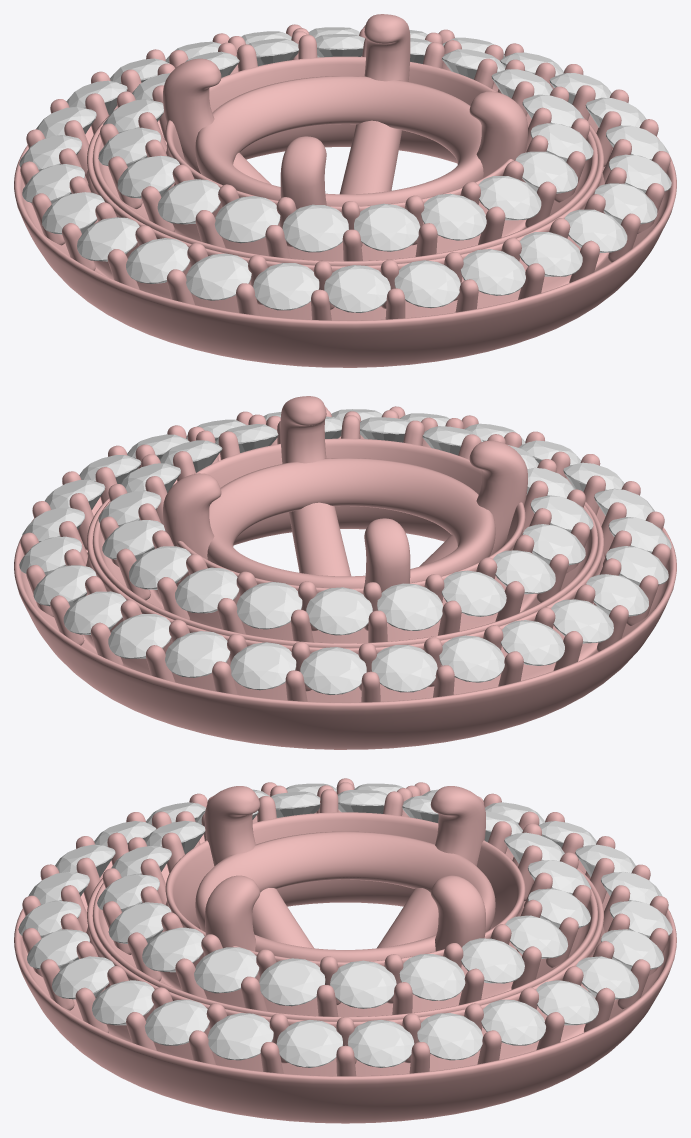
Rendered from DOUBLE-HALO.glb.
3 renders of one model, top to bottom at view 1: azimuth 30°, elevation 25°; view 2: azimuth 150°, elevation 25°; view 3: azimuth 270°, elevation 25°, orthographic.
Visible parts, largest first — view 1: metal.001, diamond.001, 4 prong, metal, diamond; view 2: metal.001, diamond.001, 4 prong, metal, diamond; view 3: metal.001, diamond.001, metal, 4 prong, diamond.
Part boxes in pixels (x1,y1,x2,y2): metal.001: (14,24,676,367); diamond.001: (19,27,671,312); 4 prong: (163,14,527,209); metal: (92,31,598,265); diamond: (98,34,593,252); metal.001: (14,406,676,749); diamond.001: (19,409,671,694); 4 prong: (163,396,527,592); metal: (92,411,598,647); diamond: (98,416,593,635); metal.001: (14,778,676,1123); diamond.001: (18,783,672,1067); metal: (92,785,598,1021); 4 prong: (195,786,495,961); diamond: (97,790,590,1008).
Bounding box in the file's own units: 10.95 × 4.48 × 10.95.
